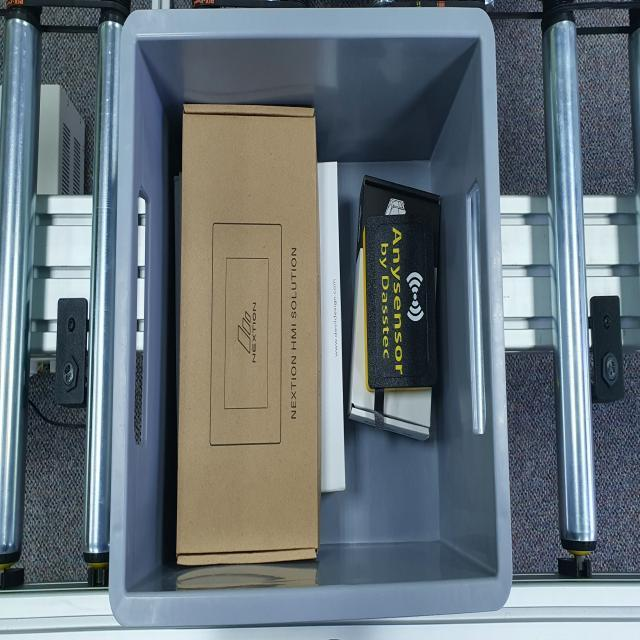box: (180, 102, 320, 563), (349, 175, 443, 441), (365, 218, 434, 394)
